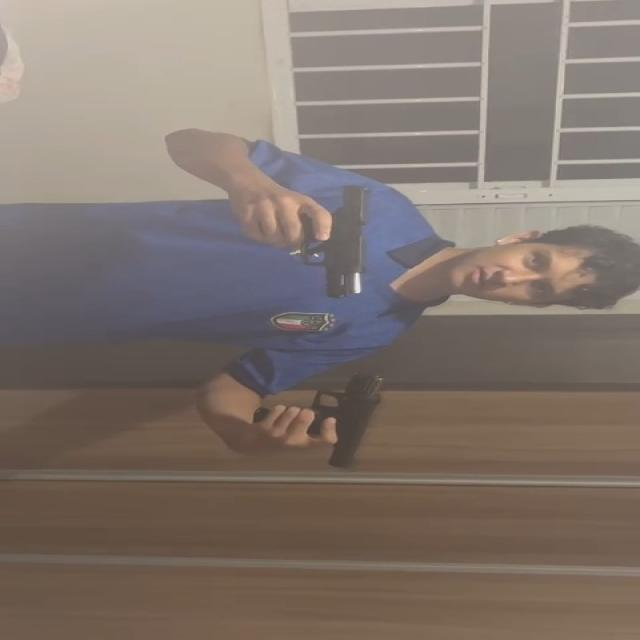gun: (296, 365, 388, 469), (295, 181, 372, 299)
